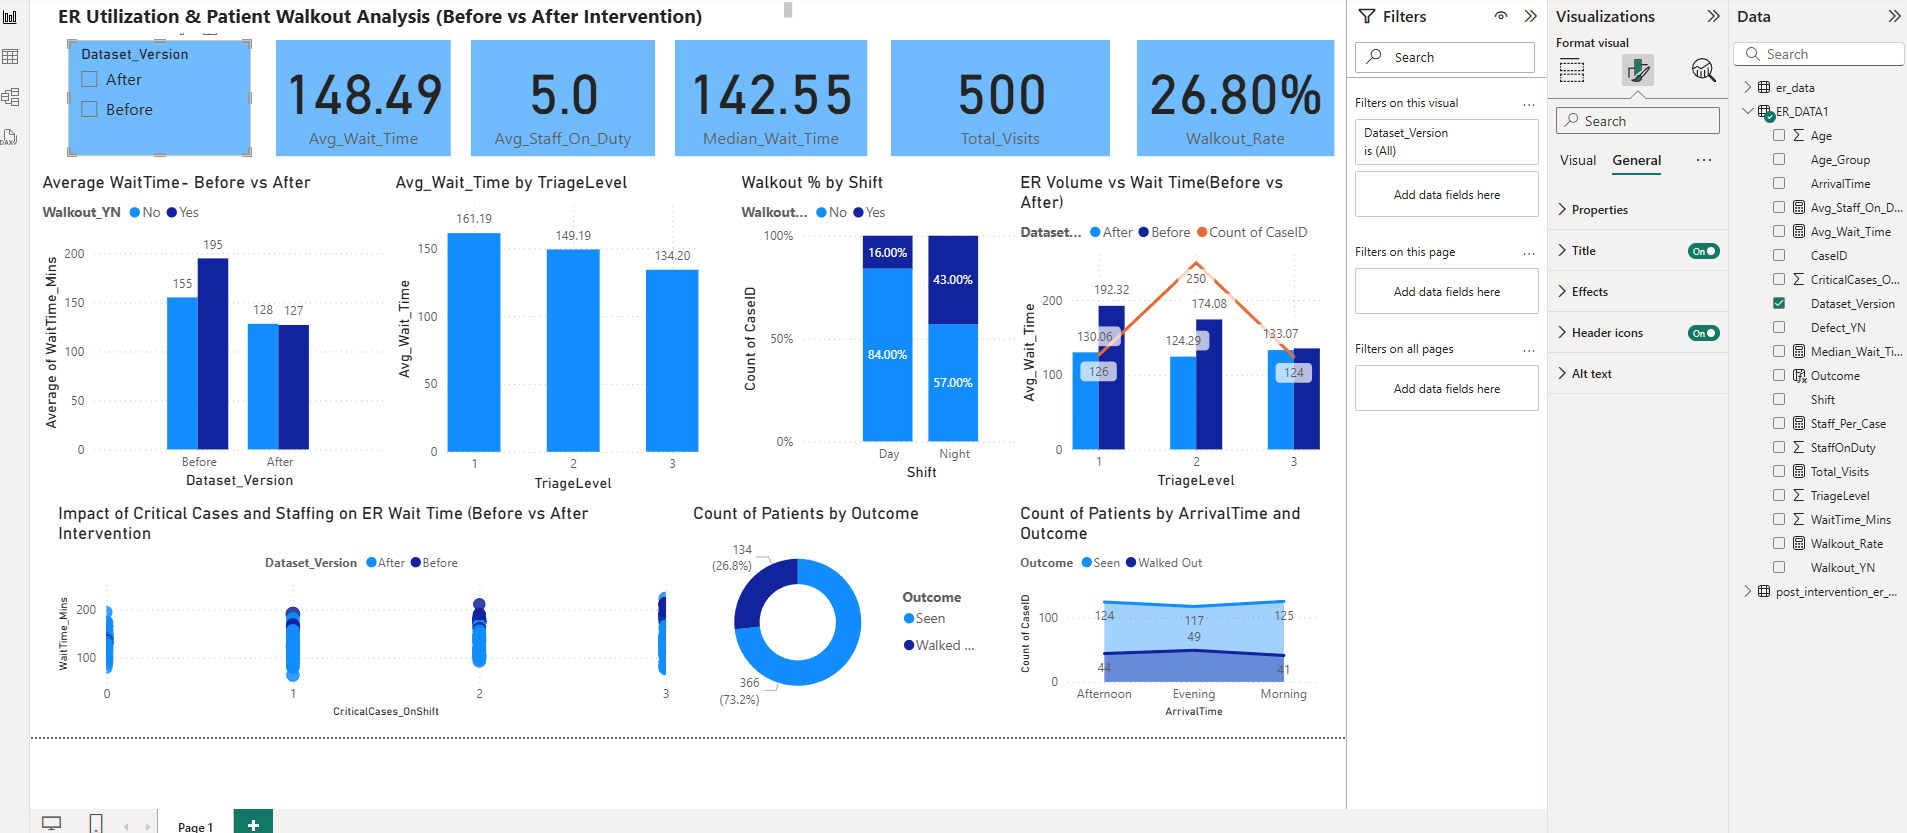

This screenshot's page, from the dashboard's own definition file:
{"tool":"powerbi","page":{"name":"Page 1","canvas":[1280,720],"ordinal":0},"visuals":[{"type":"card","fields":{"Values":["ER_DATA1.Avg_Wait_Time"]},"box":[239.3,41.8,170.2,112.8],"z":0},{"type":"card","fields":{"Values":["ER_DATA1.Avg_Staff_On_Duty"]},"box":[428.9,41.8,179,112.8],"z":1000},{"type":"card","fields":{"Values":["ER_DATA1.Median_Wait_Time"]},"box":[627.4,41.8,186.7,112.8],"z":2000},{"type":"card","fields":{"Values":["ER_DATA1.Total_Visits"]},"box":[837.4,41.8,213,112.8],"z":3000},{"type":"card","fields":{"Values":["ER_DATA1.Walkout_Rate"]},"box":[1076.7,41.8,191.6,112.8],"z":4000},{"type":"slicer","fields":{"Values":["ER_DATA1.Dataset_Version"]},"box":[37,41.8,178,112.8],"z":5000},{"type":"clusteredColumnChart","title":"Average WaitTime- Before vs After","fields":{"Category":["ER_DATA1.Dataset_Version"],"Y":["Avg(ER_DATA1.WaitTime_Mins)"],"Series":["ER_DATA1.Walkout_YN"]},"box":[6.8,170.2,343.3,313.2],"z":6000},{"type":"clusteredColumnChart","fields":{"Category":["ER_DATA1.TriageLevel"],"Y":["ER_DATA1.Avg_Wait_Time"]},"box":[350.2,170.2,305.4,315.1],"z":7000},{"type":"hundredPercentStackedColumnChart","title":"Walkout % by Shift","fields":{"Category":["ER_DATA1.Shift"],"Series":["ER_DATA1.Walkout_YN"],"Y":["CountNonNull(ER_DATA1.CaseID)"]},"box":[658.5,170.2,286,305.4],"z":8000},{"type":"scatterChart","title":"Impact of Critical Cases and Staffing on ER Wait Time (Before vs After Intervention","fields":{"X":["ER_DATA1.CriticalCases_OnShift"],"Y":["ER_DATA1.WaitTime_Mins"],"Size":["ER_DATA1.Staff_Per_Case"],"Series":["ER_DATA1.Dataset_Version"]},"box":[22.4,492.2,605,213],"z":9000},{"type":"lineClusteredColumnComboChart","title":"ER Volume vs Wait Time(Before vs After)","fields":{"Category":["ER_DATA1.TriageLevel"],"Y":["ER_DATA1.Avg_Wait_Time"],"Y2":["CountNonNull(ER_DATA1.CaseID)"],"Series":["ER_DATA1.Dataset_Version"]},"box":[958.1,170.2,301.5,313.2],"z":10000},{"type":"donutChart","title":"Count of Patients by Outcome","fields":{"Category":["ER_DATA1.Outcome"],"Y":["CountNonNull(ER_DATA1.CaseID)"]},"box":[640,492.2,301.5,213],"z":11000},{"type":"areaChart","title":"Count of Patients by ArrivalTime and Outcome","fields":{"Category":["ER_DATA1.ArrivalTime"],"Y":["CountNonNull(ER_DATA1.CaseID)"],"Series":["ER_DATA1.Outcome"]},"box":[958.1,492.2,301.5,213],"z":12000},{"type":"textbox","box":[22.4,0,723.6,35],"z":13000}]}

Visuals, with their boxes on the page's 1280x720 design canvas (x1, y1, x2, y2). These are canvas units, not pixel positions in the 1907x833 screenshot, which may show the page scaled, cropped or inside an application window:
card - ER_DATA1.Avg_Wait_Time: (239, 42, 410, 155)
card - ER_DATA1.Avg_Staff_On_Duty: (429, 42, 608, 155)
card - ER_DATA1.Median_Wait_Time: (627, 42, 814, 155)
card - ER_DATA1.Total_Visits: (837, 42, 1050, 155)
card - ER_DATA1.Walkout_Rate: (1077, 42, 1268, 155)
slicer - ER_DATA1.Dataset_Version: (37, 42, 215, 155)
"Average WaitTime- Before vs After" clusteredColumnChart: (7, 170, 350, 483)
clusteredColumnChart - ER_DATA1.TriageLevel x ER_DATA1.Avg_Wait_Time: (350, 170, 656, 485)
"Walkout % by Shift" hundredPercentStackedColumnChart: (658, 170, 944, 476)
"Impact of Critical Cases and Staffing on ER Wait Time (Before vs After Intervention" scatterChart: (22, 492, 627, 705)
"ER Volume vs Wait Time(Before vs After)" lineClusteredColumnComboChart: (958, 170, 1260, 483)
"Count of Patients by Outcome" donutChart: (640, 492, 942, 705)
"Count of Patients by ArrivalTime and Outcome" areaChart: (958, 492, 1260, 705)
textbox: (22, 0, 746, 35)
